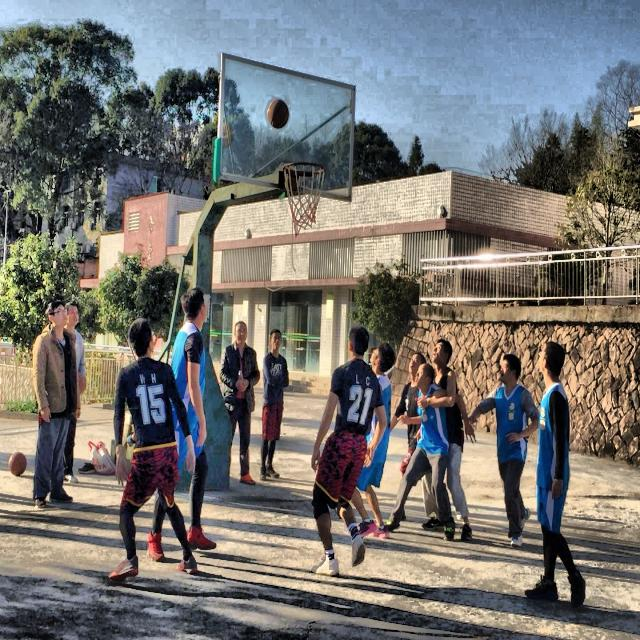rim: (280, 161, 328, 234)
